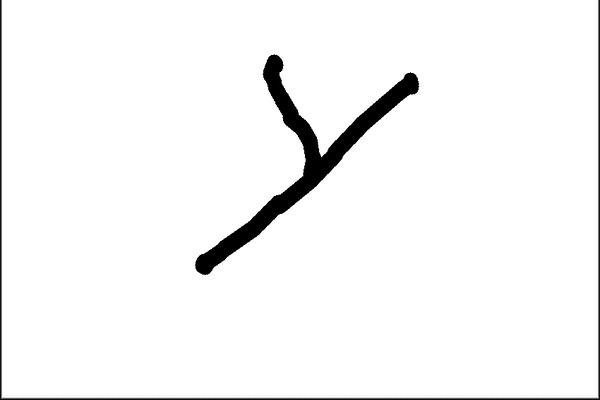Y: (179, 39, 433, 282)
